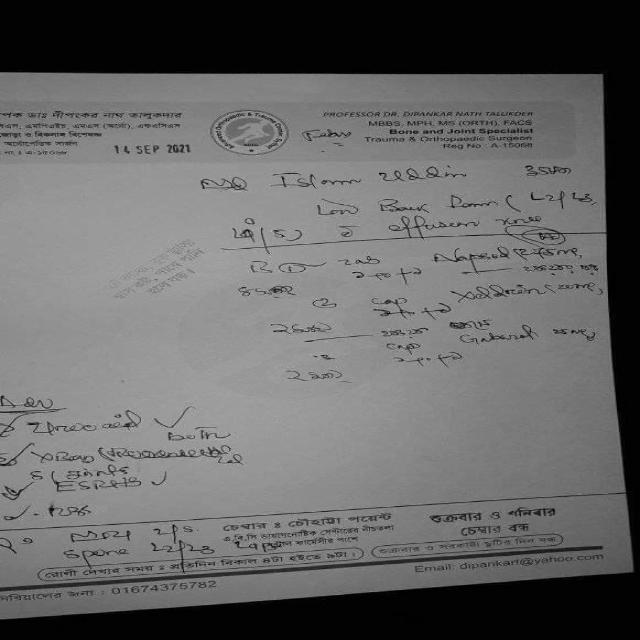Gabarol: (452, 326, 556, 346)
Napsod: (418, 245, 517, 268)
Xeldrin: (446, 278, 558, 307)
